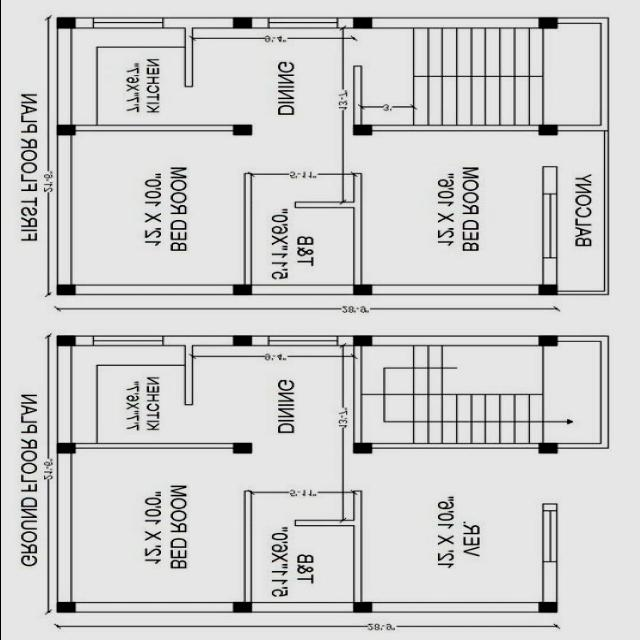Blueprint: (35, 8, 618, 622)
column: (228, 14, 255, 32), (534, 598, 560, 615), (228, 121, 254, 138), (348, 600, 374, 616), (230, 599, 256, 615), (52, 440, 78, 456), (228, 440, 254, 456), (348, 440, 374, 456), (534, 332, 560, 348), (534, 281, 560, 297), (228, 332, 254, 348), (53, 122, 79, 138), (348, 16, 374, 32), (534, 15, 560, 31), (52, 599, 77, 615), (348, 282, 376, 296), (52, 282, 76, 298), (53, 15, 77, 31), (227, 283, 254, 297), (534, 441, 560, 455), (348, 123, 374, 137), (534, 123, 560, 137), (53, 333, 77, 348), (349, 334, 374, 348)
wall: (53, 450, 74, 604), (54, 132, 72, 286), (368, 15, 540, 31), (70, 600, 235, 616), (369, 600, 542, 615), (368, 283, 542, 297), (370, 334, 540, 348), (71, 283, 236, 297), (369, 122, 543, 134), (54, 344, 74, 446), (54, 25, 73, 127), (596, 15, 612, 134), (596, 334, 612, 451), (241, 488, 257, 604), (349, 169, 364, 287), (367, 440, 542, 450), (349, 488, 364, 604), (70, 442, 236, 452), (70, 124, 236, 134), (248, 284, 356, 298), (240, 172, 253, 288), (159, 15, 237, 31), (351, 344, 363, 446), (182, 15, 196, 90), (182, 343, 198, 407), (348, 64, 364, 128), (162, 334, 234, 348), (538, 558, 558, 604), (290, 517, 364, 529), (290, 199, 364, 211), (550, 122, 611, 134), (538, 164, 560, 196), (538, 255, 558, 288), (553, 16, 613, 26), (553, 334, 611, 344), (555, 441, 611, 451), (246, 15, 272, 31), (70, 16, 98, 30), (70, 333, 96, 348), (247, 334, 273, 348), (333, 15, 355, 31), (335, 334, 355, 348)
